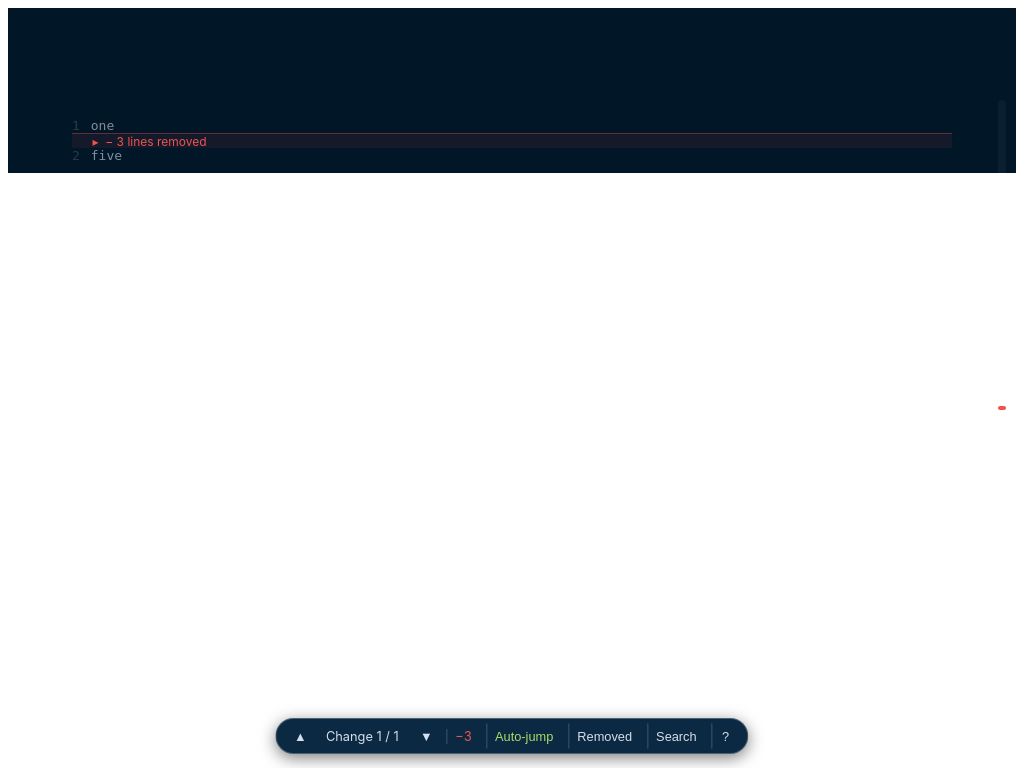
Test case: removed lines › search does not look into the removed lines
The image size is (1024, 768).
Click the button with class "removed-toggle": (148, 142) [90,134,207,149]
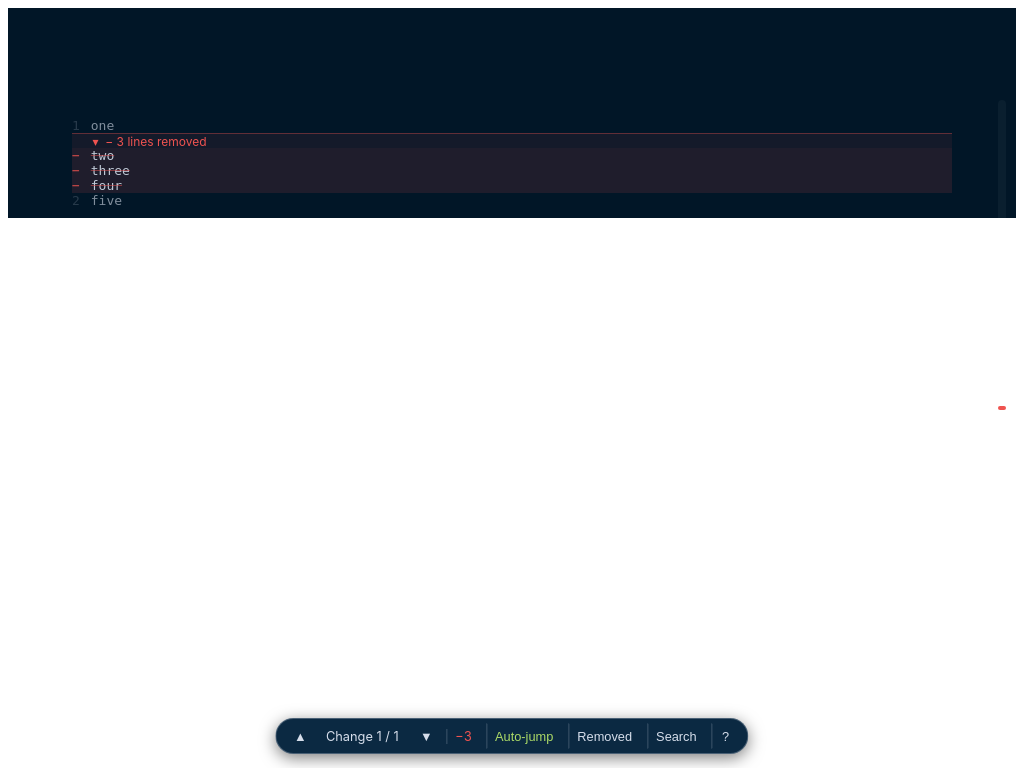
Press /
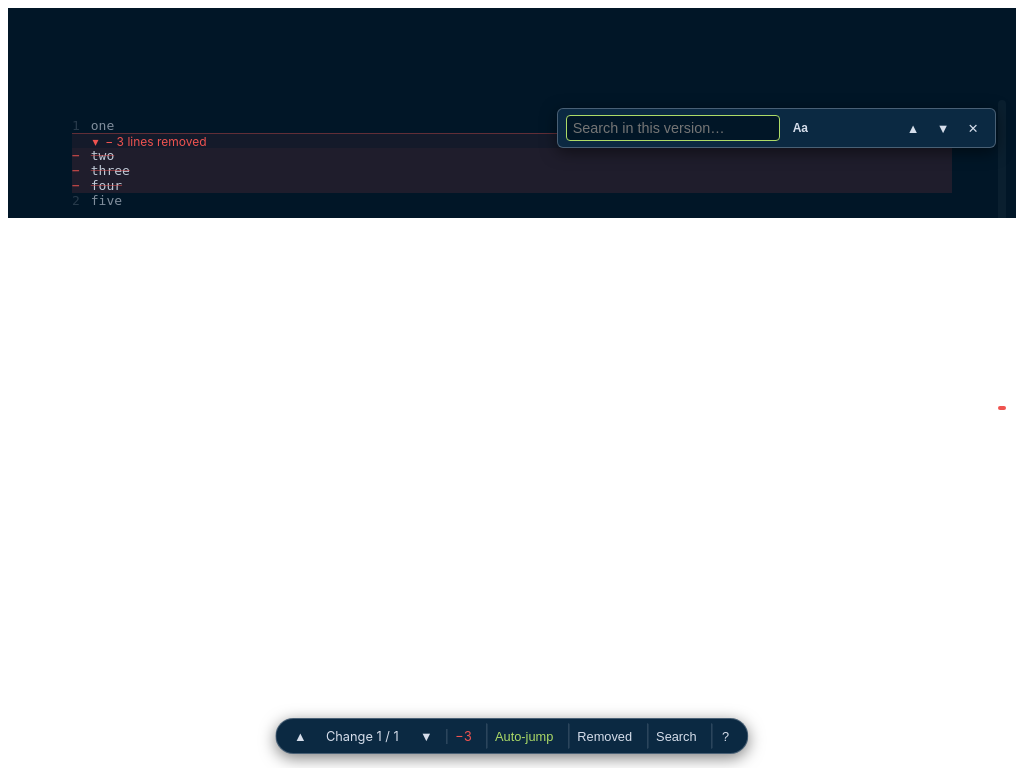
In the field with placeholder "Search in this version…": (673, 128) [566,115,780,141], type "three"
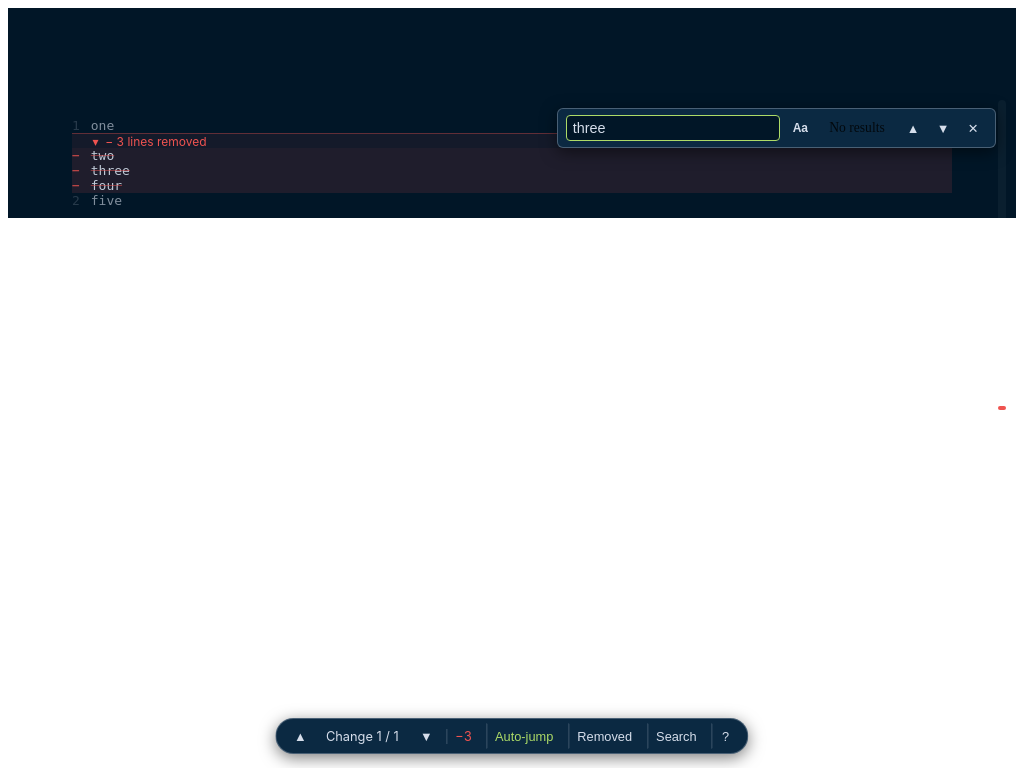
Result: the text with class "search-status" reads "No results" at [829,120,885,135]
